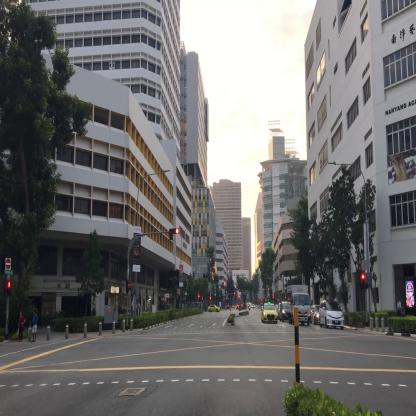red_traffic_light: (169, 228, 179, 233)
